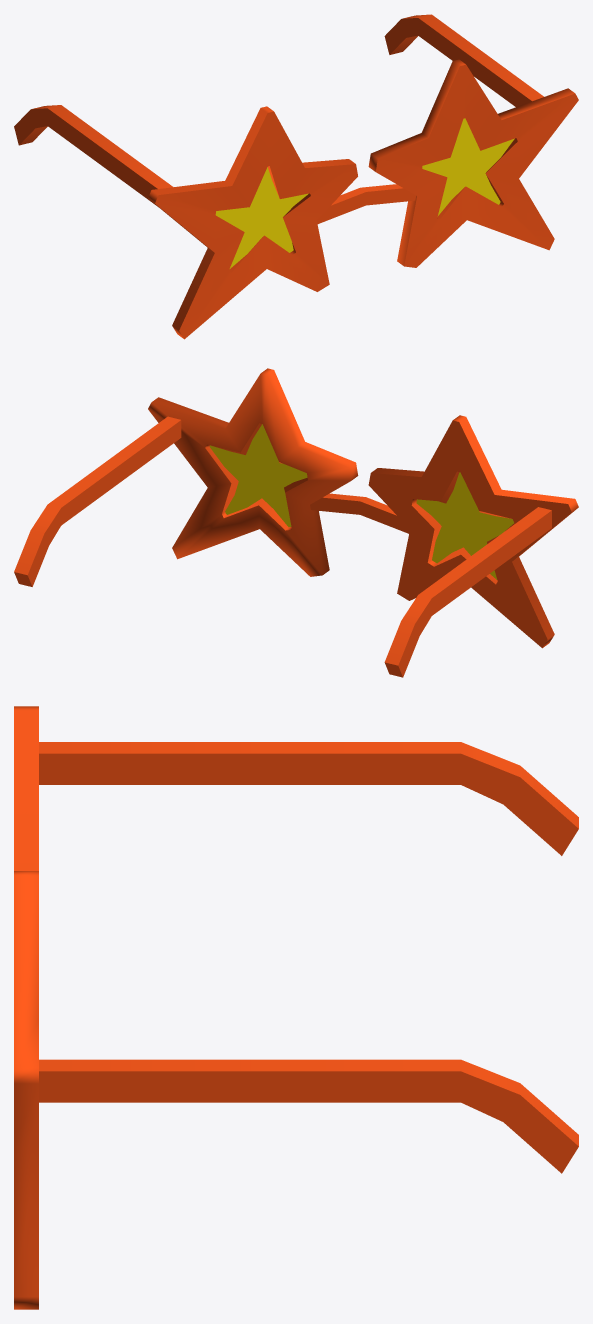
Rendered from Star_goggles.fbx.
3 renders of one model, top to bottom at view 1: azimuth 30°, elevation 25°; view 2: azimuth 150°, elevation 25°; view 3: azimuth 270°, elevation 25°, orthographic. The views are drawn at different scales.
Visible parts, largest first — view 1: Star_goggles.c, Glasses_stick_34, Glasses_stick_33; view 2: Star_goggles.c, Glasses_stick_33, Glasses_stick_34; view 3: Glasses_stick_33, Glasses_stick_34, Star_goggles.c.
Part boxes in pixels (x1,y1,x2,y2): Star_goggles.c: (148,59,578,339); Glasses_stick_34: (14,105,173,206); Glasses_stick_33: (384,14,543,106); Star_goggles.c: (148,368,578,648); Glasses_stick_33: (14,416,181,586); Glasses_stick_34: (384,507,551,677); Glasses_stick_33: (39,1059,578,1173); Glasses_stick_34: (39,742,578,855); Star_goggles.c: (14,706,38,1309).
Bounding box in the file's own units: 0.6904 × 0.3207 × 0.4535.
